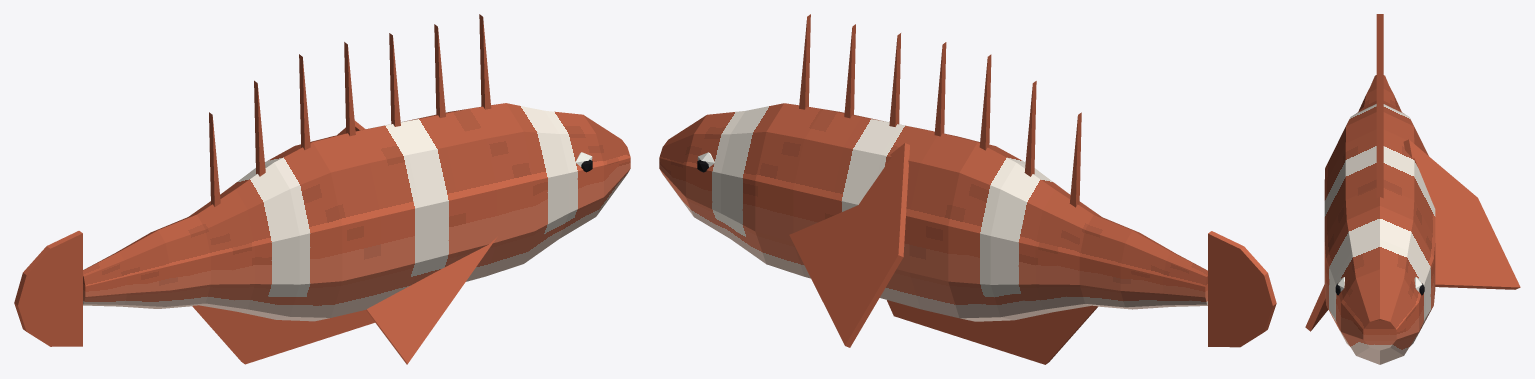
File: lionfish.glb
3 renders of one model, left to right at view 1: azimuth 30°, elevation 25°; view 2: azimuth 150°, elevation 25°; view 3: azimuth 270°, elevation 25°, orthographic. The views are drawn at different scales.
Parts seen in each view (by area): view 1: fish_lionfish; view 2: fish_lionfish; view 3: fish_lionfish.
Boxes of the visible parts, left/top/right/bottom form: fish_lionfish: left=14, top=14, right=630, bottom=364; fish_lionfish: left=659, top=14, right=1276, bottom=364; fish_lionfish: left=1305, top=14, right=1520, bottom=364.
Size of the model in its own units: 1.12 by 0.5308 by 0.37.
Materials: 4 (1 with a texture image).
